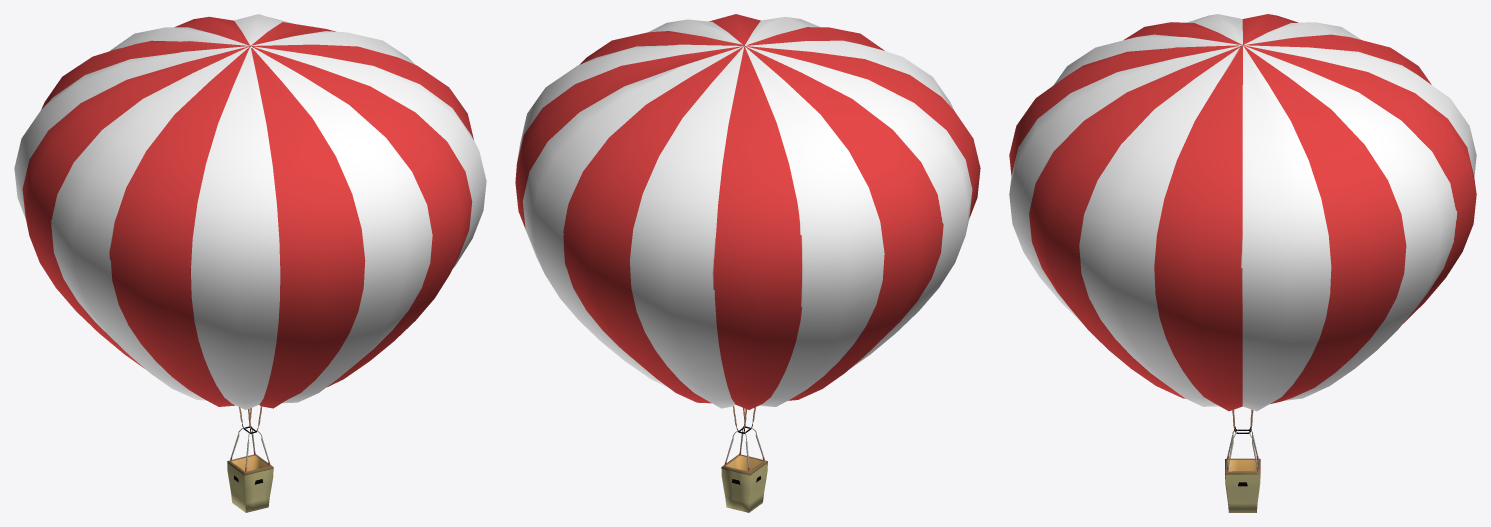
The model's file is Hot-Air-Balloon.fbx.
The picture shows the model from 3 angles, left to right: view 1: azimuth 30°, elevation 25°; view 2: azimuth 150°, elevation 25°; view 3: azimuth 270°, elevation 25°; orthographic projection.
Visible parts, largest first — view 1: Balloon, Gondola; view 2: Balloon, Gondola; view 3: Balloon, Gondola.
Part boxes in pixels (x1,y1,x2,y2): Balloon: [14, 14, 486, 409]; Gondola: [227, 454, 273, 512]; Balloon: [515, 14, 980, 409]; Gondola: [721, 454, 767, 512]; Balloon: [1009, 14, 1476, 411]; Gondola: [1225, 458, 1260, 512].
Bounding box in the file's own units: 2.8 × 3.06 × 2.8.
